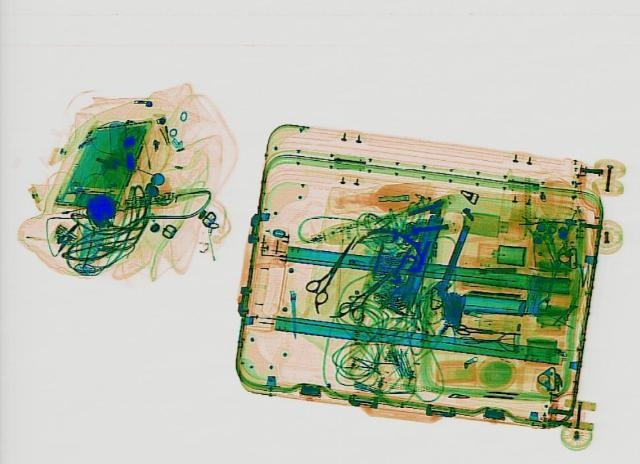Scissors: (296, 230, 366, 302), (333, 262, 407, 321), (451, 321, 505, 337), (460, 331, 516, 342)
